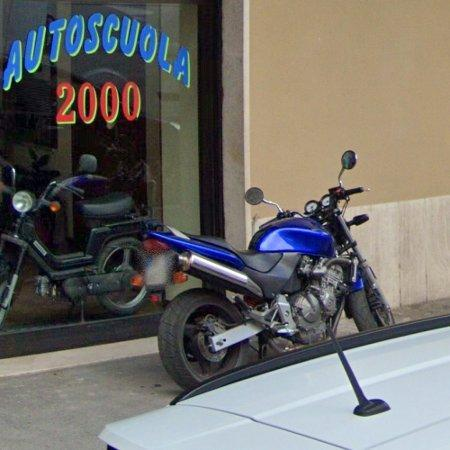motorcycles: (146, 150, 395, 391)
